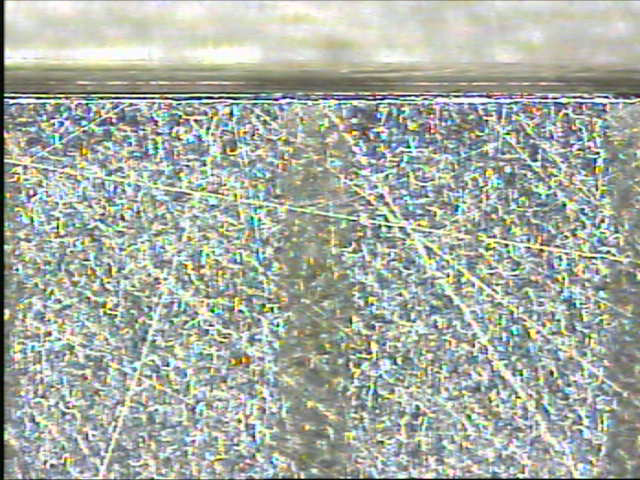line: (268, 100, 354, 477)
